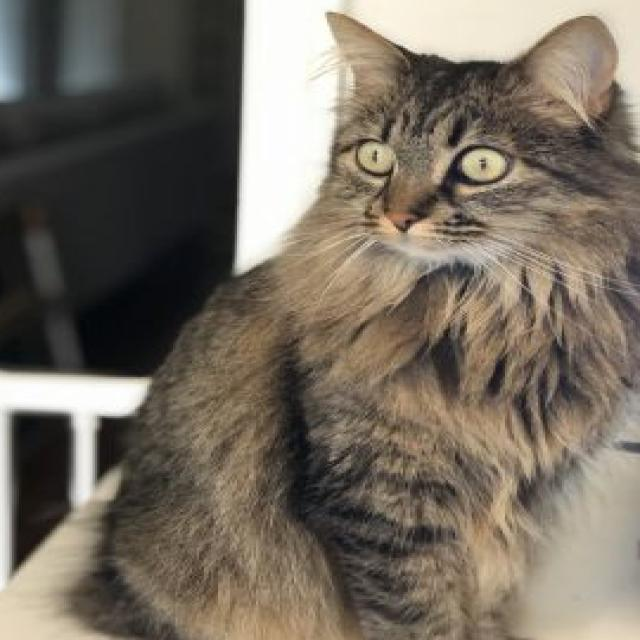Maine Coon: (66, 5, 640, 640)
